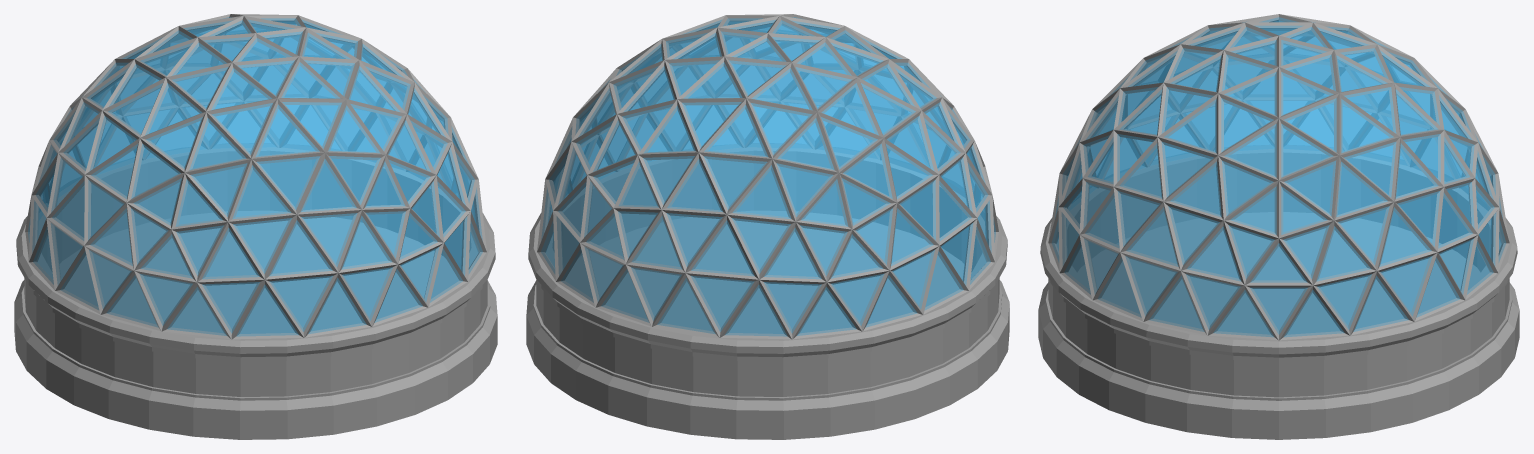
The model's file is base_dome_001.fbx.
3 views of the same model, side by side, from view 1: azimuth 30°, elevation 25°; view 2: azimuth 150°, elevation 25°; view 3: azimuth 270°, elevation 25° (orthographic).
Visible parts, largest first — view 1: Base, Glass, Struct; view 2: Base, Glass, Struct; view 3: Base, Glass, Struct.
Boxes of the visible parts, x1,y1,x2,y2 form: Base: (14, 148, 497, 439); Glass: (28, 17, 482, 336); Struct: (25, 14, 486, 339); Base: (526, 148, 1009, 439); Glass: (541, 17, 995, 336); Struct: (537, 14, 998, 339); Base: (1038, 149, 1519, 439); Glass: (1052, 17, 1505, 336); Struct: (1048, 14, 1509, 340).
Size of the model in its own units: 646 by 449 by 646.
